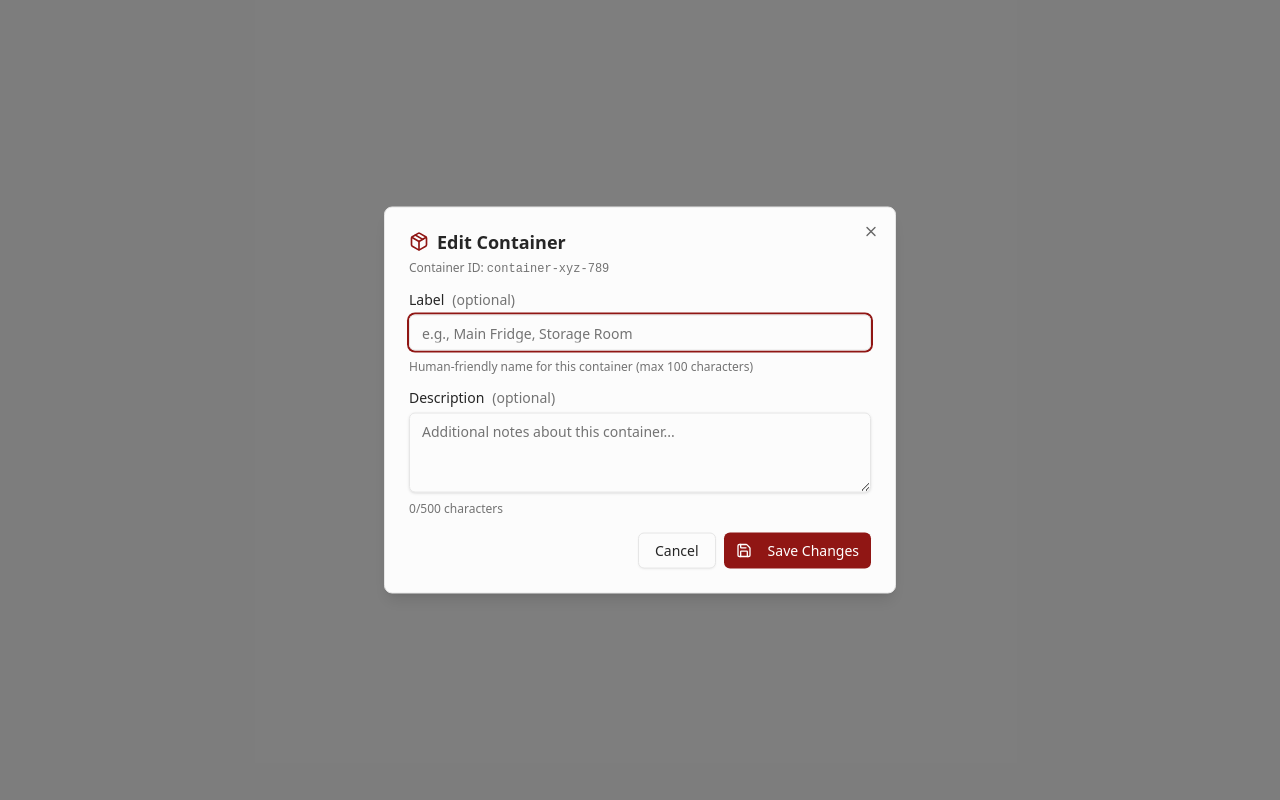
EditContainerDialog › Form Fields › updates character count as user types
Step 1. Type "New description" into the text box with test id "edit-container-description-input" → (640, 452), box [409,412,871,492]
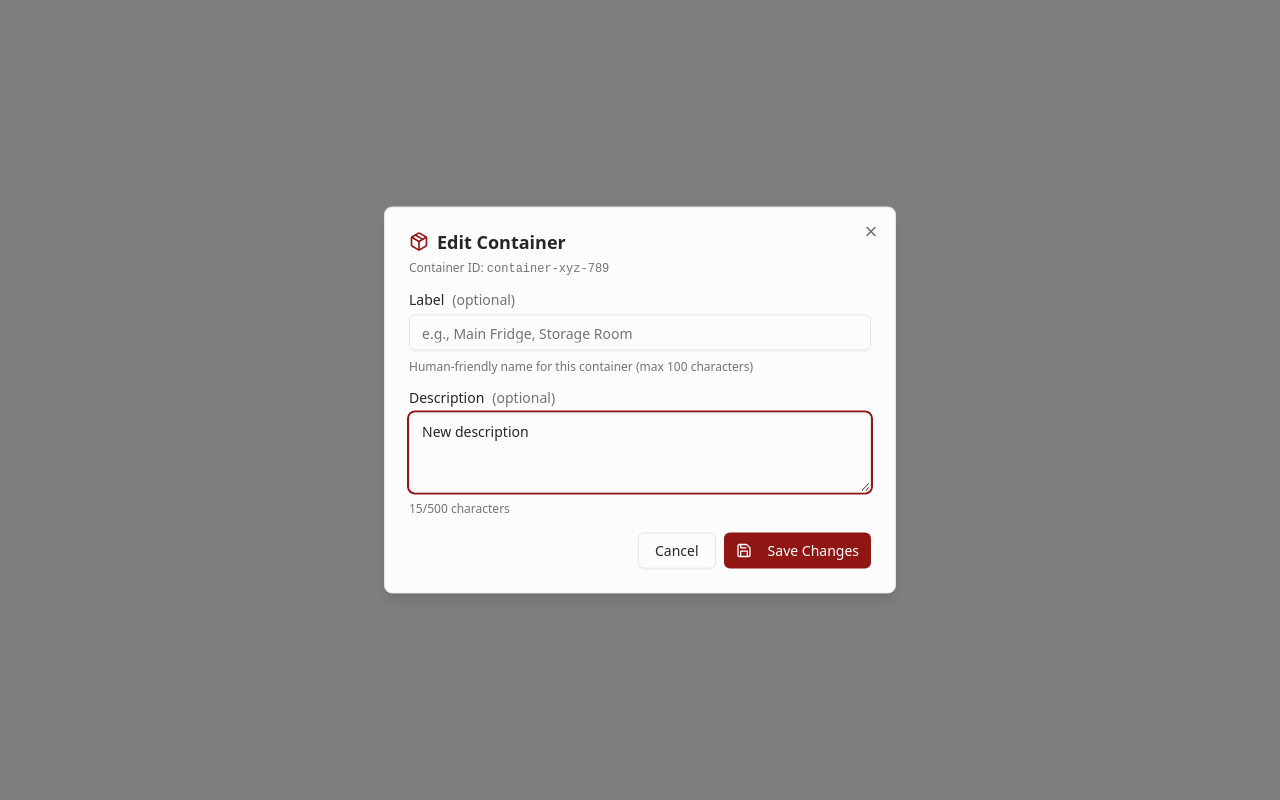
Expected: the text "15/500 characters" is shown, [409,500,510,516]
